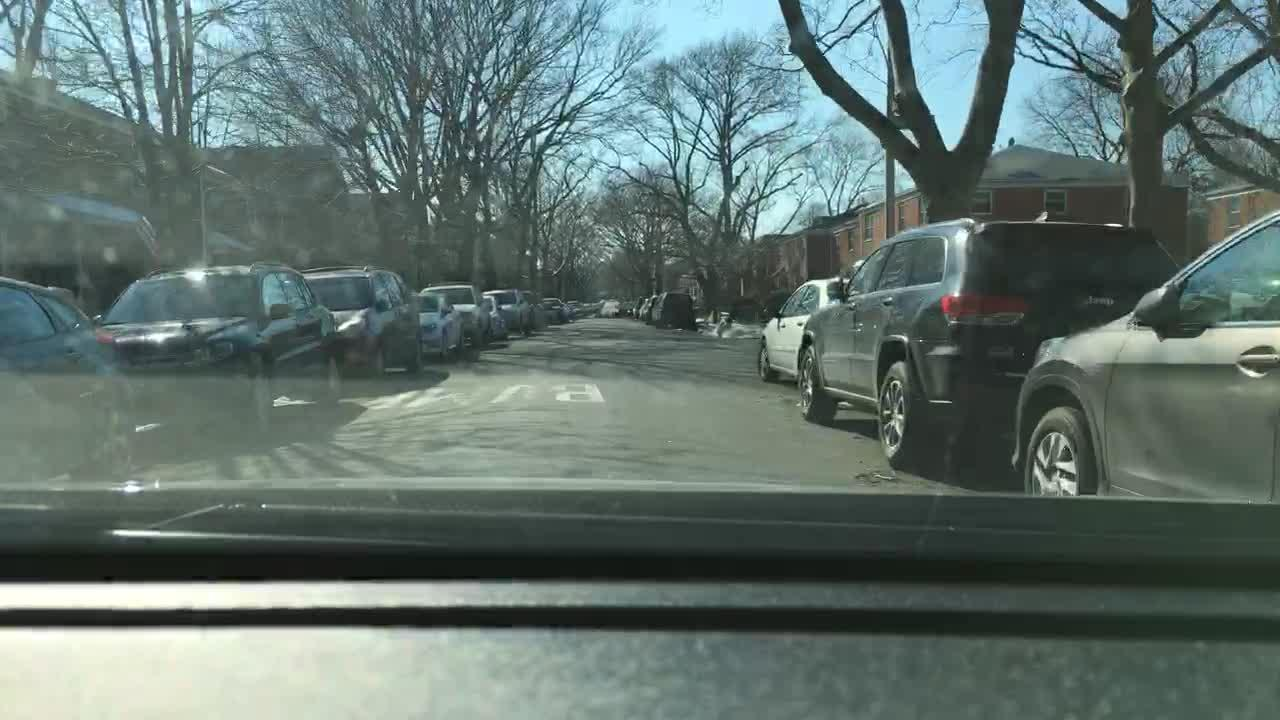jeep: (1079, 295, 1125, 313)
